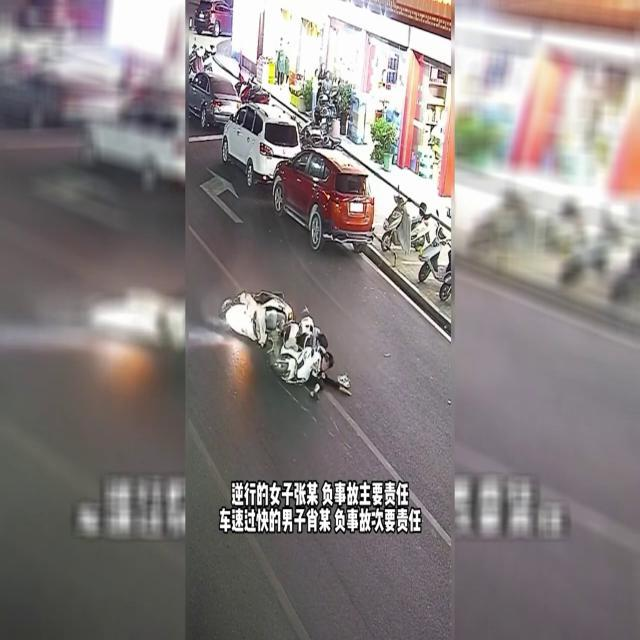multiple_accident: (210, 258, 372, 423)
normal: (183, 43, 395, 273)
